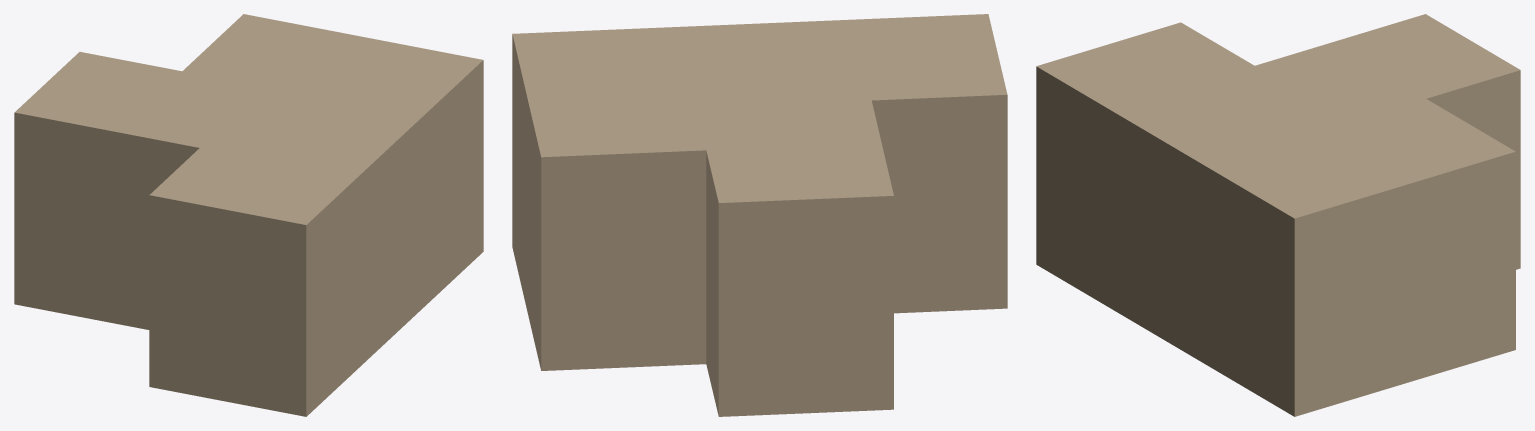
The model's file is bld_101524514.dae.
3 views of the same model, side by side, from view 1: azimuth 30°, elevation 25°; view 2: azimuth 150°, elevation 25°; view 3: azimuth 270°, elevation 25° (orthographic). The views are drawn at different scales.
Parts seen in each view (by area): view 1: bld_101524514; view 2: bld_101524514; view 3: bld_101524514.
Boxes of the visible parts, x1,y1,x2,y2 form: bld_101524514: (14, 14, 483, 416); bld_101524514: (512, 14, 1007, 416); bld_101524514: (1036, 14, 1520, 416).
Bounding box in the file's own units: 17.7 × 17.71 × 8.
